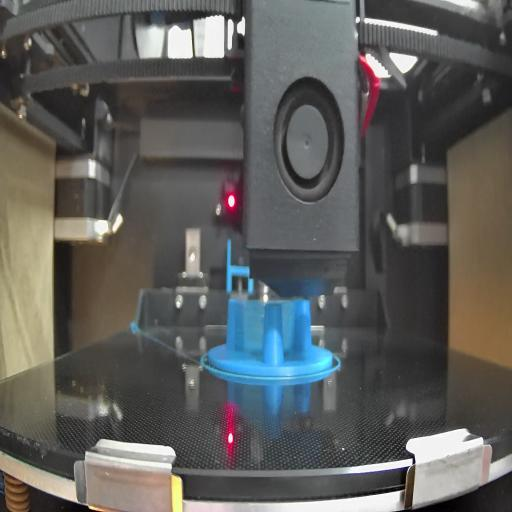stringing: (235, 298, 264, 356), (283, 298, 300, 358)
